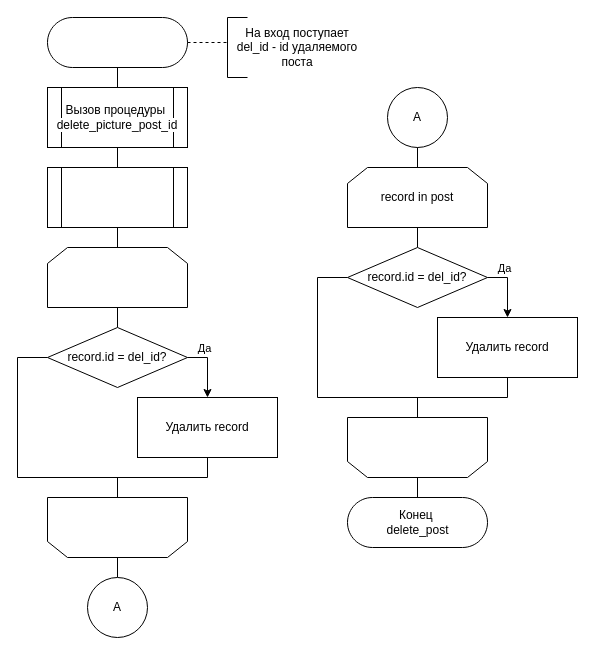
Image size: 595x655. Some labels were removed from this diagram. Here are the shapes that lost their labels. From the top down, the centre of each, then its label:
At [117,42]: "Начало delete_post".
At [117,197]: "Вызов процедуры delete_text_post_id".
At [117,277]: "record in review".
At [417,447]: "Конец цикла по post".
At [117,527]: "Конец цикла по review".
